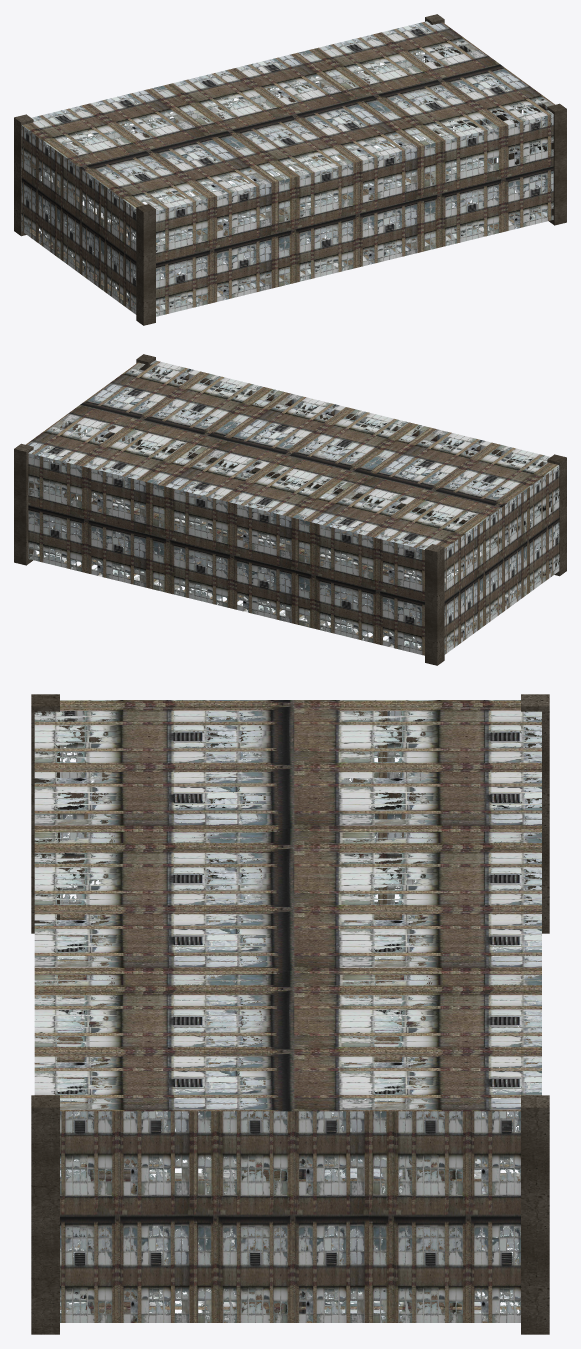
File: BagSS08mid_100.fbx
3 renders of one model, top to bottom at view 1: azimuth 30°, elevation 25°; view 2: azimuth 150°, elevation 25°; view 3: azimuth 270°, elevation 25°, orthographic. The views are drawn at different scales.
Visible parts, largest first — view 1: midBox100, midCrete100; view 2: midBox100, midCrete100; view 3: midBox100, midCrete100.
Boxes of the visible parts, x1,y1,x2,y2 form: midBox100: (21,21,554,316); midCrete100: (14,14,566,325); midBox100: (26,360,559,655); midCrete100: (14,354,566,665); midBox100: (34,700,541,1322); midCrete100: (31,694,549,1334).
Size of the model in its own units: 60.9 by 15.61 by 32.27.
